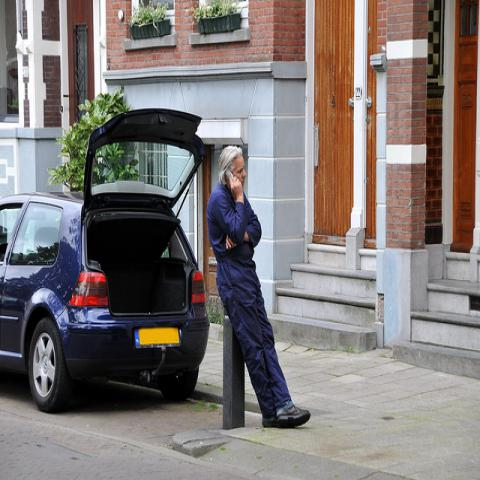car: (1, 105, 211, 411)
